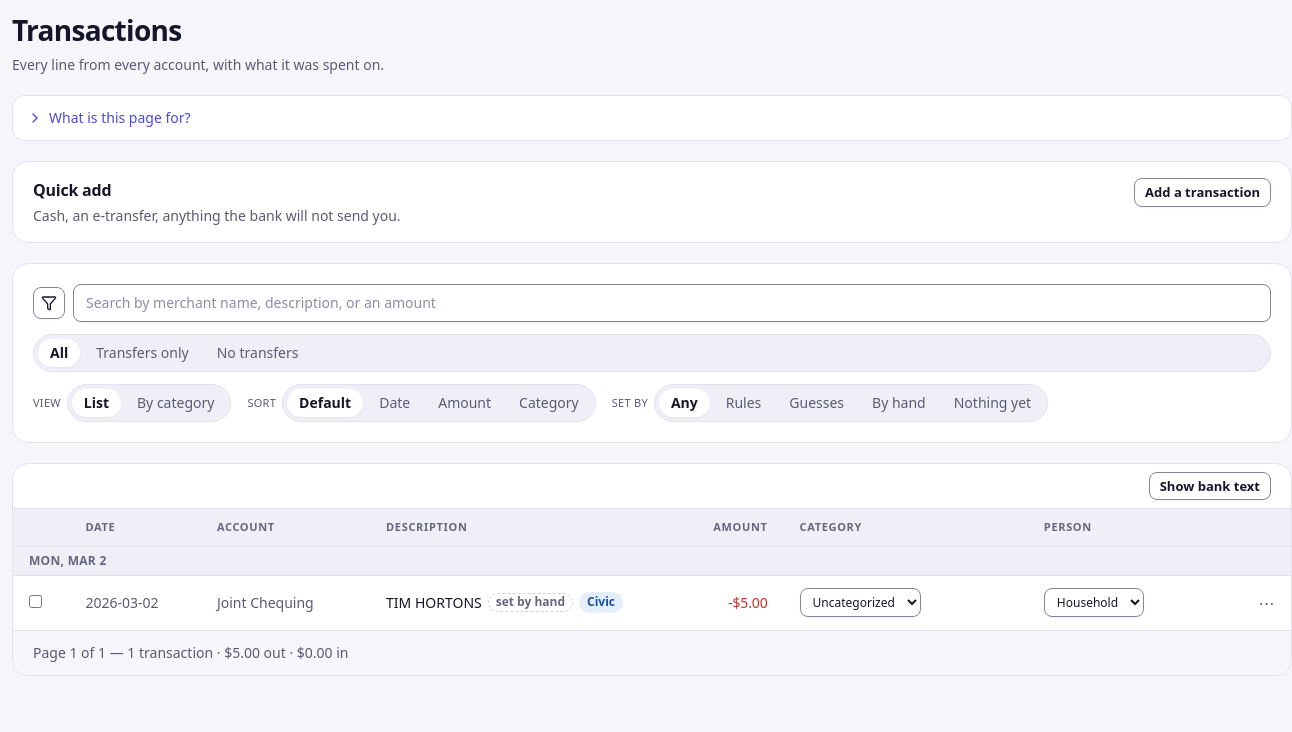
Test: MUST-14.8 / MUST-14.9: the row control › a linked row shows Unassign, and the single "Assign to loan…" item stays reachable (F4 fix-round)
Click the button named "Actions for TIM HORTONS". click: [1267, 603]
box: x1=1251 y1=587 x2=1283 y2=619
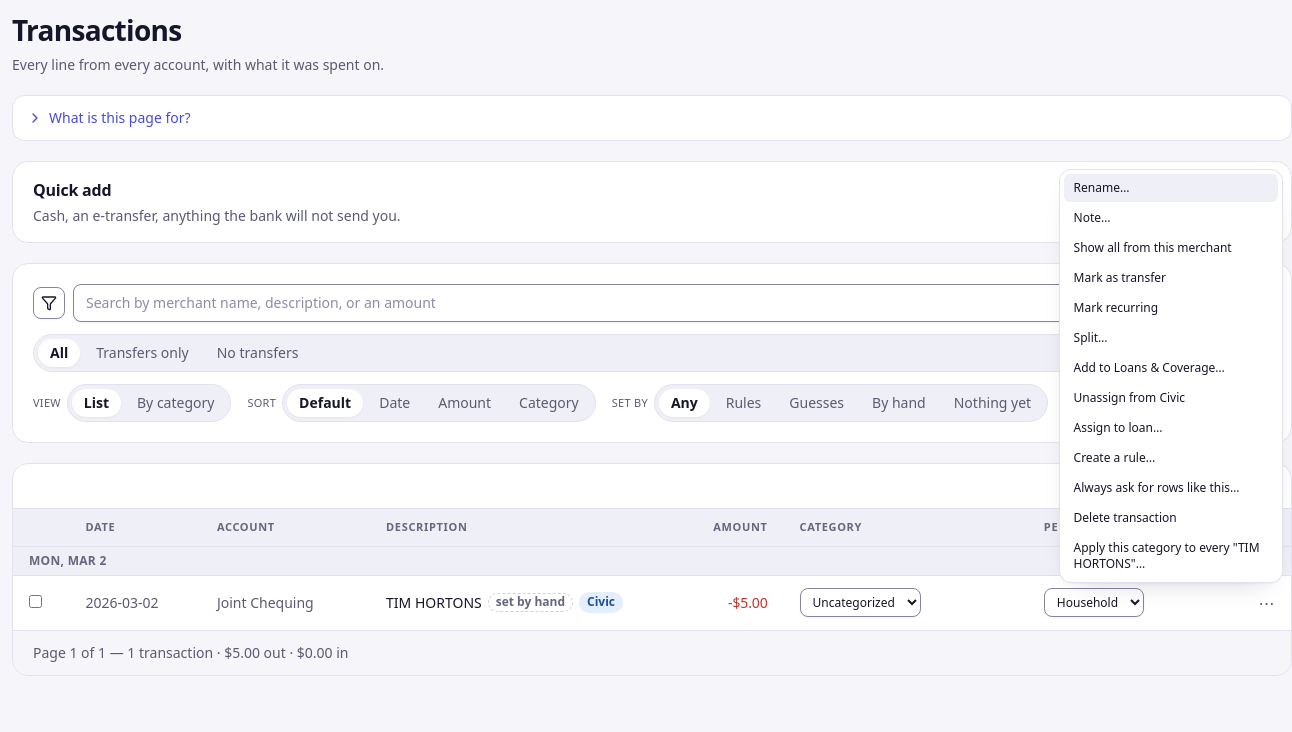
expect the menu item "Unassign from Civic" is shown: met, box x1=1064 y1=384 x2=1278 y2=412
expect the menu item "Assign to loan…" is shown: met, box x1=1064 y1=414 x2=1278 y2=442
